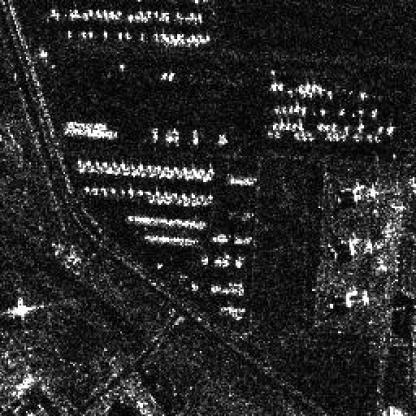airplane: (151, 127, 159, 141), (164, 133, 174, 143), (220, 133, 228, 145), (167, 72, 176, 82), (68, 8, 78, 16), (80, 12, 90, 20), (190, 135, 198, 145), (99, 187, 107, 197), (94, 8, 101, 18), (160, 72, 168, 80), (268, 83, 276, 91), (356, 122, 364, 130), (366, 132, 374, 140), (385, 124, 393, 132), (101, 8, 107, 18), (299, 104, 305, 114), (284, 120, 290, 130), (332, 132, 338, 142), (91, 187, 97, 197), (115, 8, 122, 16), (271, 106, 278, 114), (352, 133, 360, 140), (375, 124, 382, 132), (174, 132, 179, 143), (338, 107, 344, 116), (127, 188, 133, 197), (109, 10, 114, 20), (276, 81, 281, 91), (341, 125, 348, 132), (50, 6, 56, 14), (39, 49, 47, 55), (127, 13, 133, 21), (88, 8, 94, 16), (293, 104, 299, 112), (369, 109, 375, 117), (278, 120, 284, 128), (274, 130, 280, 138), (293, 132, 299, 140), (301, 132, 307, 140), (324, 124, 332, 130), (325, 132, 331, 140), (374, 134, 380, 142), (109, 187, 115, 195), (319, 107, 325, 114), (83, 185, 89, 192), (152, 190, 158, 197), (65, 30, 70, 38), (117, 31, 122, 39), (125, 31, 130, 39), (307, 132, 312, 140), (330, 122, 335, 130), (340, 132, 344, 142), (80, 31, 86, 37), (267, 132, 273, 138), (317, 124, 323, 130), (146, 190, 151, 197), (298, 122, 302, 130), (102, 31, 107, 37), (291, 122, 296, 128), (136, 189, 141, 195), (88, 31, 92, 37), (280, 106, 286, 110), (288, 104, 292, 110), (272, 122, 276, 128)
